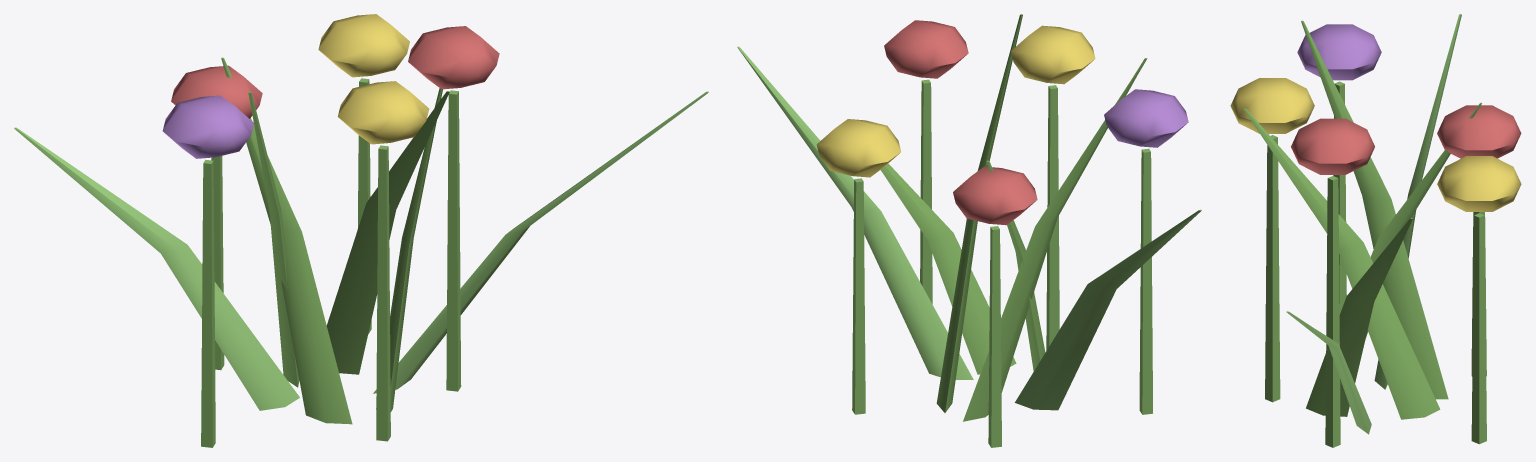
File: prop_flower_patch.glb
3 renders of one model, left to right at view 1: azimuth 30°, elevation 25°; view 2: azimuth 150°, elevation 25°; view 3: azimuth 270°, elevation 25°, orthographic. The views are drawn at different scales.
Visible parts, largest first — view 1: prop_flower_patch; view 2: prop_flower_patch; view 3: prop_flower_patch.
Part boxes in pixels (box(x1,y1,x2,y2)): prop_flower_patch: box(14, 14, 708, 447); prop_flower_patch: box(737, 14, 1201, 447); prop_flower_patch: box(1230, 14, 1521, 447).
Size of the model in its own units: 0.8112 by 0.4691 by 0.3791.
